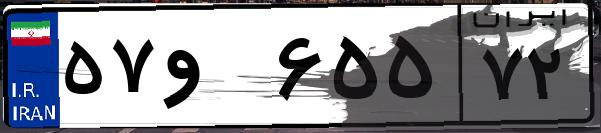2: (525, 38, 570, 115)
5: (385, 28, 445, 110), (330, 28, 385, 110), (57, 26, 110, 100)
6: (270, 28, 330, 110)
7: (475, 38, 525, 113), (110, 28, 158, 98)
و: (158, 20, 270, 120)
